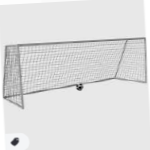goals: (3, 37, 149, 110)
